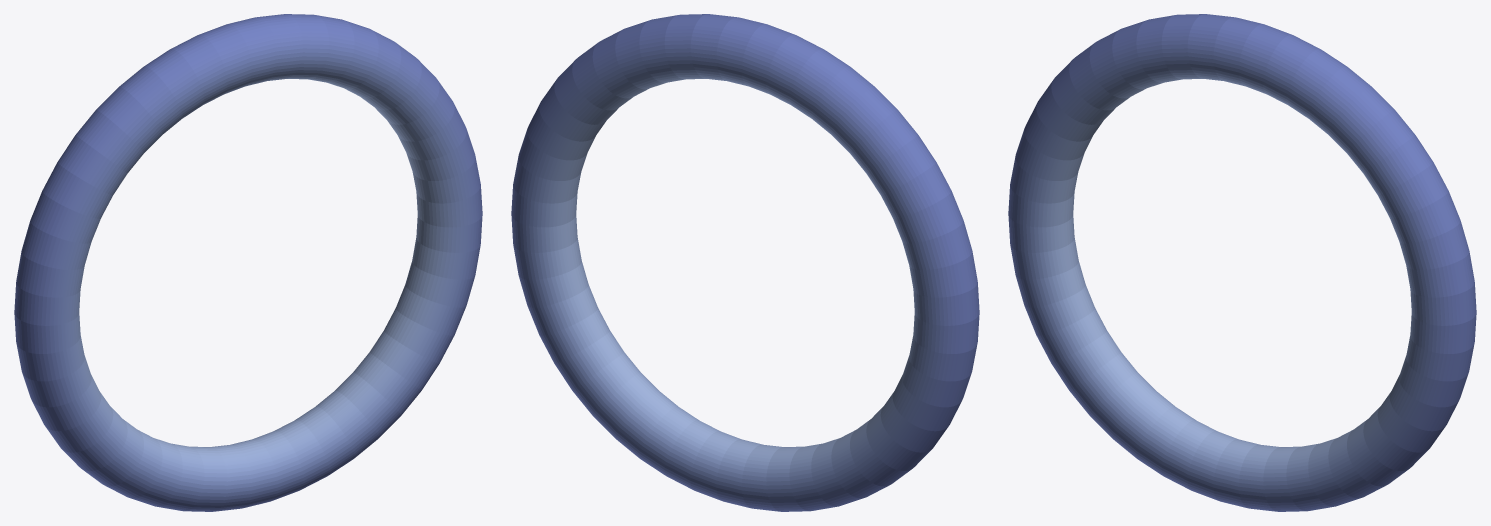
The picture shows the model from 3 angles, left to right: view 1: azimuth 30°, elevation 25°; view 2: azimuth 150°, elevation 25°; view 3: azimuth 330°, elevation 25°; orthographic projection.
Visible parts, largest first — view 1: world; view 2: world; view 3: world.
Part boxes in pixels (x1,y1,x2,y2): world: (14, 14, 482, 511); world: (511, 14, 979, 511); world: (1008, 14, 1476, 511).
Size of the model in its own units: 25.07 by 25.02 by 3.06.
